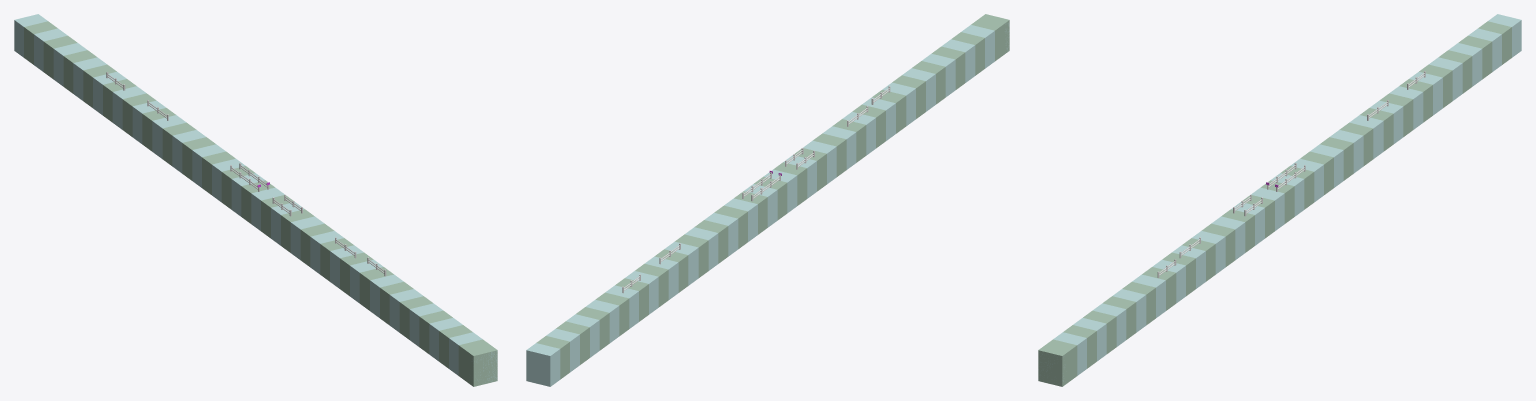
The model's file is GameArea 1.fbx.
3 views of the same model, side by side, from view 1: azimuth 30°, elevation 25°; view 2: azimuth 150°, elevation 25°; view 3: azimuth 330°, elevation 25° (orthographic).
Parts seen in each view (by area): view 1: 2xGameAreaBoşluklu, 2xGameArea, 2xGameAreaBoşluklu2; view 2: 2xGameAreaBoşluklu, 2xGameArea, 2xGameAreaBoşluklu2, 2xGameAreaBoşluklu3; view 3: 2xGameAreaBoşluklu, 2xGameArea, 2xGameAreaBoşluklu2.
Boxes of the visible parts, box(x1,y1,x2,y2) form: 2xGameAreaBoşluklu: box(14, 14, 497, 386); 2xGameArea: box(54, 52, 497, 382); 2xGameAreaBoşluklu2: box(49, 43, 495, 379); 2xGameAreaBoşluklu: box(526, 14, 1009, 386); 2xGameArea: box(590, 23, 1009, 355); 2xGameAreaBoşluklu2: box(526, 14, 1009, 385); 2xGameAreaBoşluklu3: box(526, 173, 790, 384); 2xGameAreaBoşluklu: box(1038, 14, 1521, 386); 2xGameArea: box(1038, 50, 1482, 384); 2xGameAreaBoşluklu2: box(1038, 39, 1486, 385).
Bounding box in the file's own units: 3091 × 4633 × 101732.
